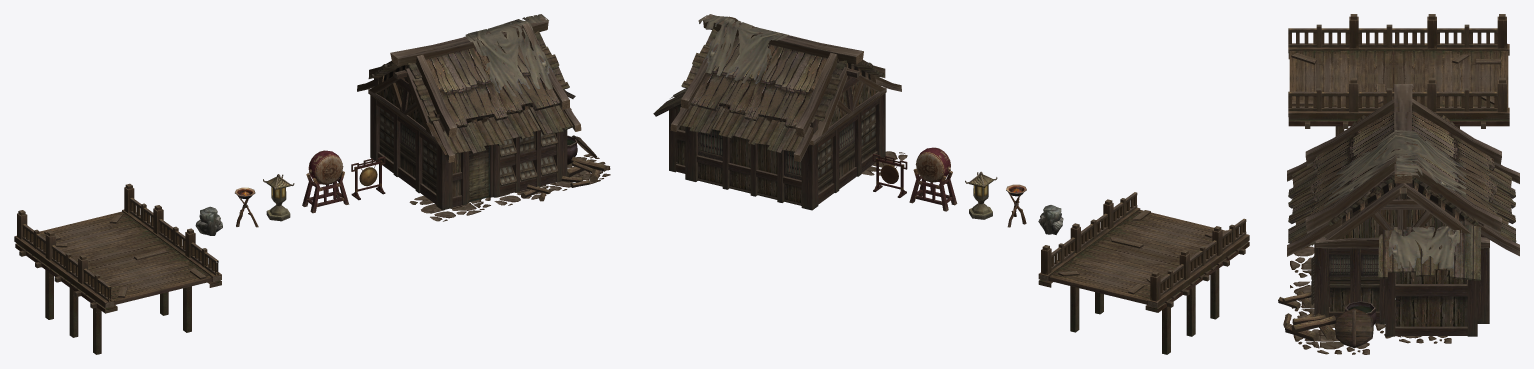
The model's file is s7_pveobjecvol2.FBX.
3 renders of one model, left to right at view 1: azimuth 30°, elevation 25°; view 2: azimuth 150°, elevation 25°; view 3: azimuth 270°, elevation 25°, orthographic. The views are drawn at different scales.
Visible parts, largest first — view 1: s7_pve_fight_chalet, s7_bridge, s7_pve_fight_drummer, s7_pve_fight_gong, s7_ludeng, s7_shitou; view 2: s7_pve_fight_chalet, s7_bridge, s7_pve_fight_drummer, s7_pve_fight_gong, s7_ludeng, s7_shitou; view 3: s7_pve_fight_chalet, s7_bridge.
Part boxes in pixels (bbox=[...]): s7_pve_fight_chalet: bbox=[357, 14, 610, 221]; s7_bridge: bbox=[14, 183, 221, 354]; s7_pve_fight_drummer: bbox=[302, 150, 349, 213]; s7_pve_fight_gong: bbox=[351, 156, 385, 200]; s7_ludeng: bbox=[263, 174, 294, 221]; s7_shitou: bbox=[195, 206, 222, 235]; s7_pve_fight_chalet: bbox=[653, 14, 907, 210]; s7_bridge: bbox=[1038, 192, 1249, 354]; s7_pve_fight_drummer: bbox=[909, 147, 957, 211]; s7_pve_fight_gong: bbox=[872, 153, 907, 197]; s7_ludeng: bbox=[965, 171, 997, 219]; s7_shitou: bbox=[1038, 205, 1063, 234]; s7_pve_fight_chalet: bbox=[1278, 84, 1519, 354]; s7_bridge: bbox=[1288, 14, 1509, 136].
Bounding box in the file's own units: 1831 × 673 × 601.
